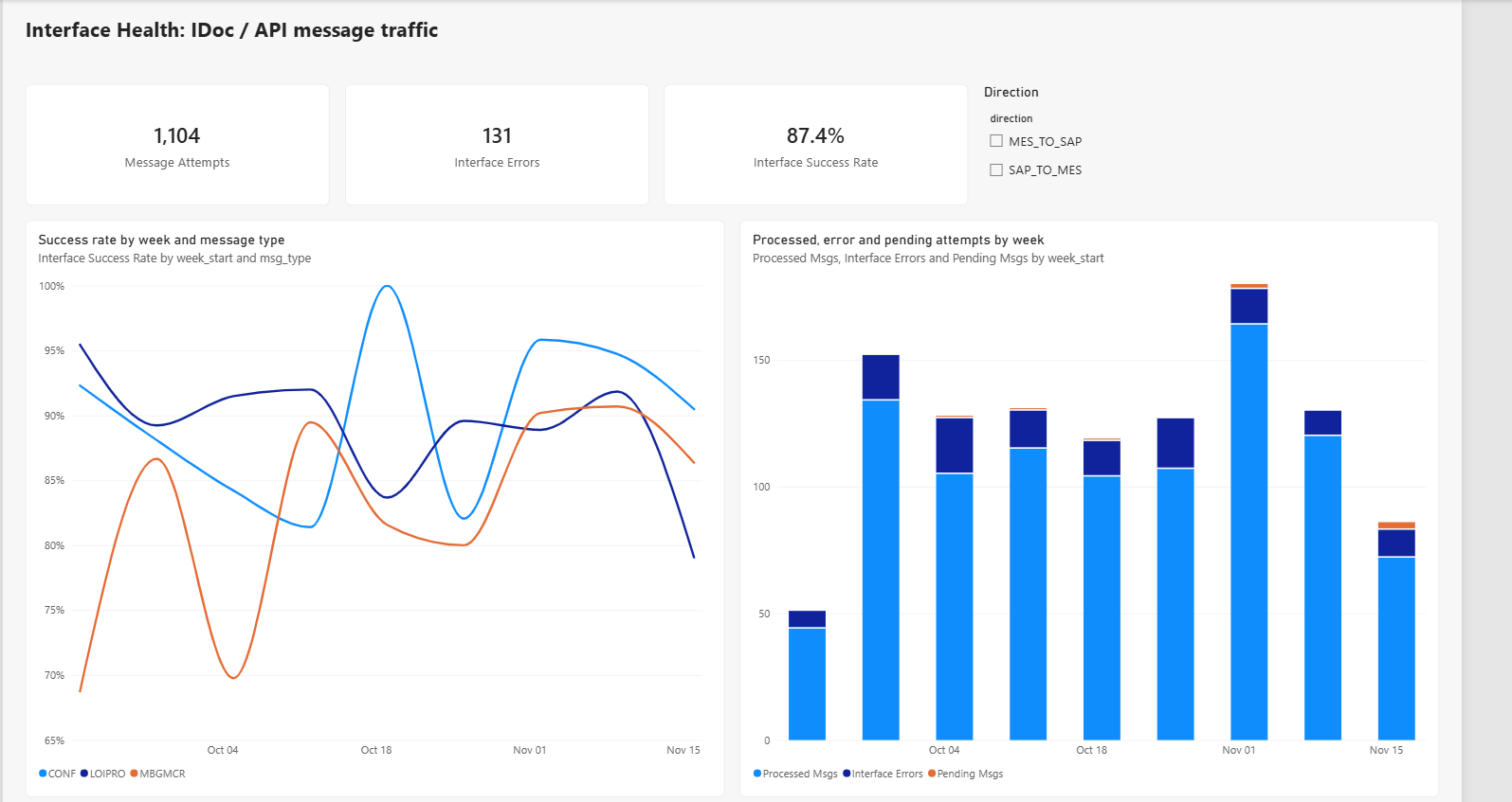

The page's visual inventory and layout, read from the dashboard file:
{"tool":"powerbi","page":{"name":"Interface Health","canvas":[1920,1080],"ordinal":1},"visuals":[{"type":"textbox","box":[30,20,1400,70],"z":0},{"type":"card","fields":{"Values":["InterfaceHealth.Message Attempts"]},"box":[30,110,400,160],"z":1},{"type":"card","fields":{"Values":["InterfaceHealth.Interface Errors"]},"box":[450,110,400,160],"z":2},{"type":"card","fields":{"Values":["InterfaceHealth.Interface Success Rate"]},"box":[870,110,400,160],"z":3},{"type":"slicer","title":"Direction","fields":{"Values":["InterfaceHealth.direction"]},"box":[1290,110,600,160],"z":4},{"type":"lineChart","title":"Success rate by week and message type","fields":{"Category":["InterfaceHealth.week_start"],"Y":["InterfaceHealth.Interface Success Rate"],"Series":["InterfaceHealth.msg_type"]},"box":[30,290,920,760],"z":5},{"type":"columnChart","title":"Processed, error and pending attempts by week","fields":{"Category":["InterfaceHealth.week_start"],"Y":["InterfaceHealth.Processed Msgs","InterfaceHealth.Interface Errors","InterfaceHealth.Pending Msgs"]},"box":[970,290,920,760],"z":6}]}

Visuals, with their boxes on the page's 1920x1080 design canvas (x1, y1, x2, y2). These are canvas units, not pixel positions in the 1512x802 screenshot, which may show the page scaled, cropped or inside an application window:
textbox: {"left": 30, "top": 20, "right": 1430, "bottom": 90}
card - InterfaceHealth.Message Attempts: {"left": 30, "top": 110, "right": 430, "bottom": 270}
card - InterfaceHealth.Interface Errors: {"left": 450, "top": 110, "right": 850, "bottom": 270}
card - InterfaceHealth.Interface Success Rate: {"left": 870, "top": 110, "right": 1270, "bottom": 270}
"Direction" slicer: {"left": 1290, "top": 110, "right": 1890, "bottom": 270}
"Success rate by week and message type" lineChart: {"left": 30, "top": 290, "right": 950, "bottom": 1050}
"Processed, error and pending attempts by week" columnChart: {"left": 970, "top": 290, "right": 1890, "bottom": 1050}
